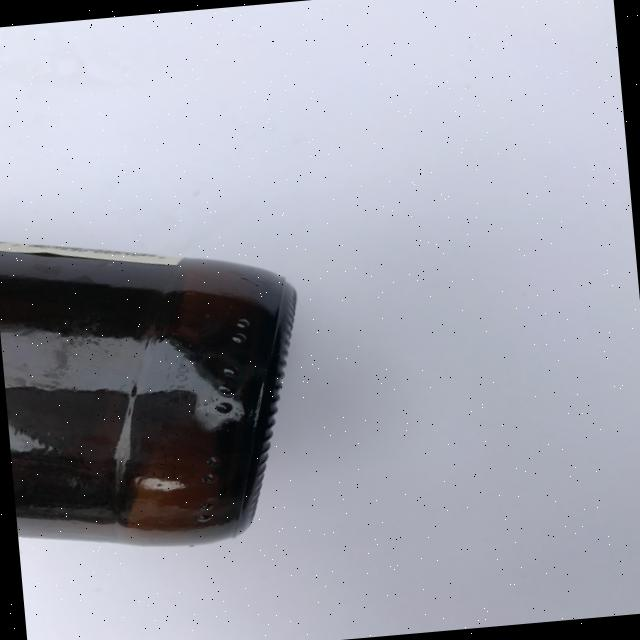glass: (0, 214, 318, 561)
